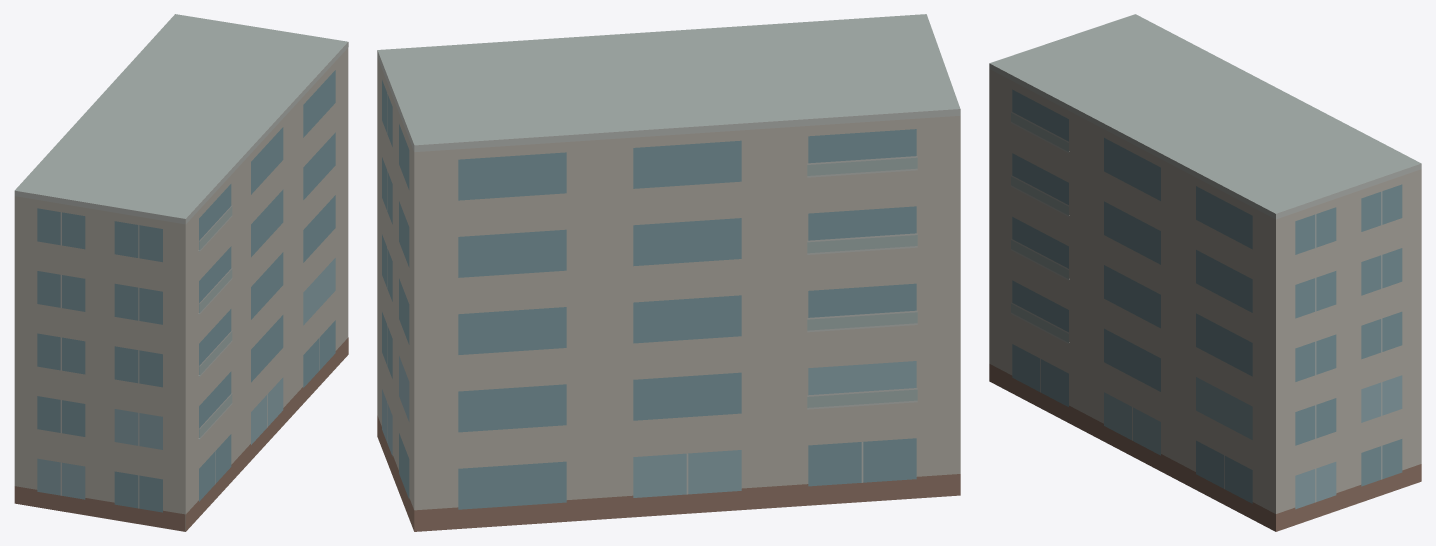
Rendered from survey-upis-32768499.glb.
3 renders of one model, left to right at view 1: azimuth 30°, elevation 25°; view 2: azimuth 150°, elevation 25°; view 3: azimuth 270°, elevation 25°, orthographic. The views are drawn at different scales.
Visible parts, largest first — view 1: survey-upis-32768499.tmp; view 2: survey-upis-32768499.tmp; view 3: survey-upis-32768499.tmp.
Boxes of the visible parts, left/top/right/bottom form: survey-upis-32768499.tmp: left=14, top=14, right=348, bottom=531; survey-upis-32768499.tmp: left=377, top=14, right=960, bottom=531; survey-upis-32768499.tmp: left=989, top=14, right=1421, bottom=531.
Size of the model in its own units: 18.68 by 13.85 by 17.07.
